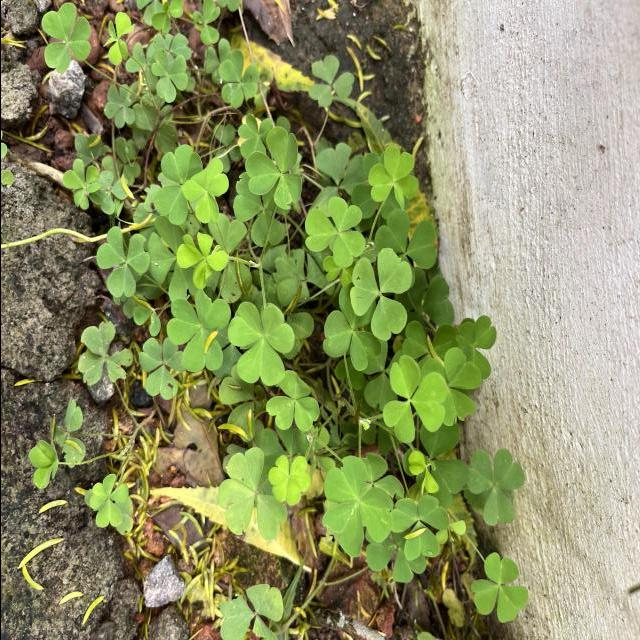Oxalis corniculata: (320, 455, 393, 558), (216, 446, 288, 542), (348, 246, 412, 342), (381, 353, 446, 446), (226, 300, 294, 387), (166, 290, 230, 372), (242, 126, 302, 211), (465, 444, 525, 526), (303, 196, 367, 269), (468, 551, 528, 624), (388, 494, 449, 562), (94, 226, 150, 298), (40, 2, 92, 75), (365, 144, 419, 210), (264, 370, 319, 432), (180, 156, 228, 226), (175, 232, 228, 290), (138, 337, 185, 400), (266, 454, 310, 507), (61, 158, 102, 212), (150, 47, 188, 104)
